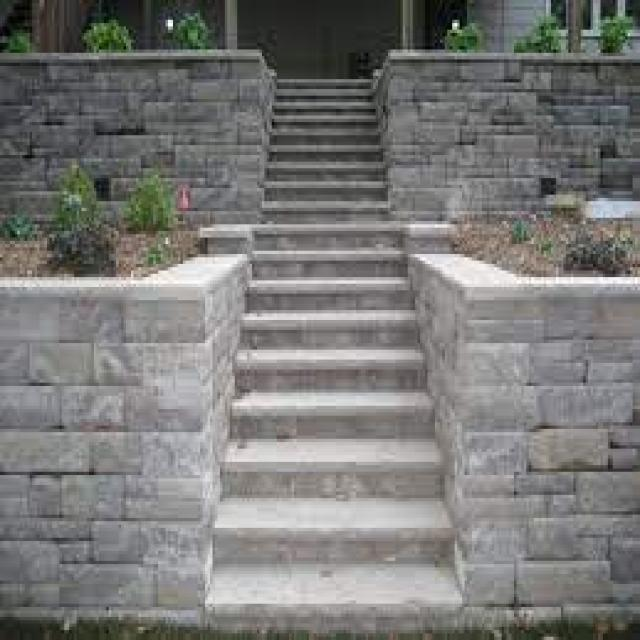stairs: (200, 66, 462, 630)
